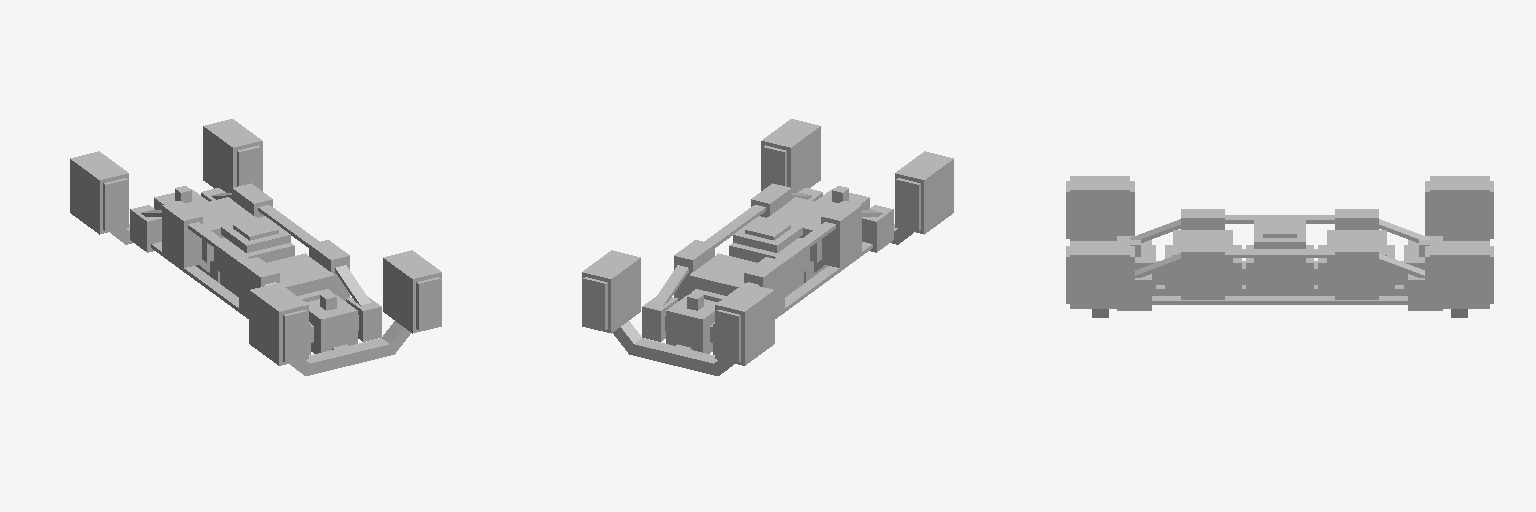
Rendered from frame.obj.
3 views of the same model, side by side, from view 1: azimuth 30°, elevation 25°; view 2: azimuth 150°, elevation 25°; view 3: azimuth 270°, elevation 25° (orthographic).
Parts seen in each view (by area): view 1: Cube.006_Cube.001; view 2: Cube.006_Cube.001; view 3: Cube.006_Cube.001.
Boxes of the visible parts, box(x1,y1,x2,y2) form: Cube.006_Cube.001: box(70, 119, 441, 375); Cube.006_Cube.001: box(582, 119, 953, 375); Cube.006_Cube.001: box(1066, 176, 1493, 317).
Size of the model in its own units: 2.75 by 1.31 by 6.25.